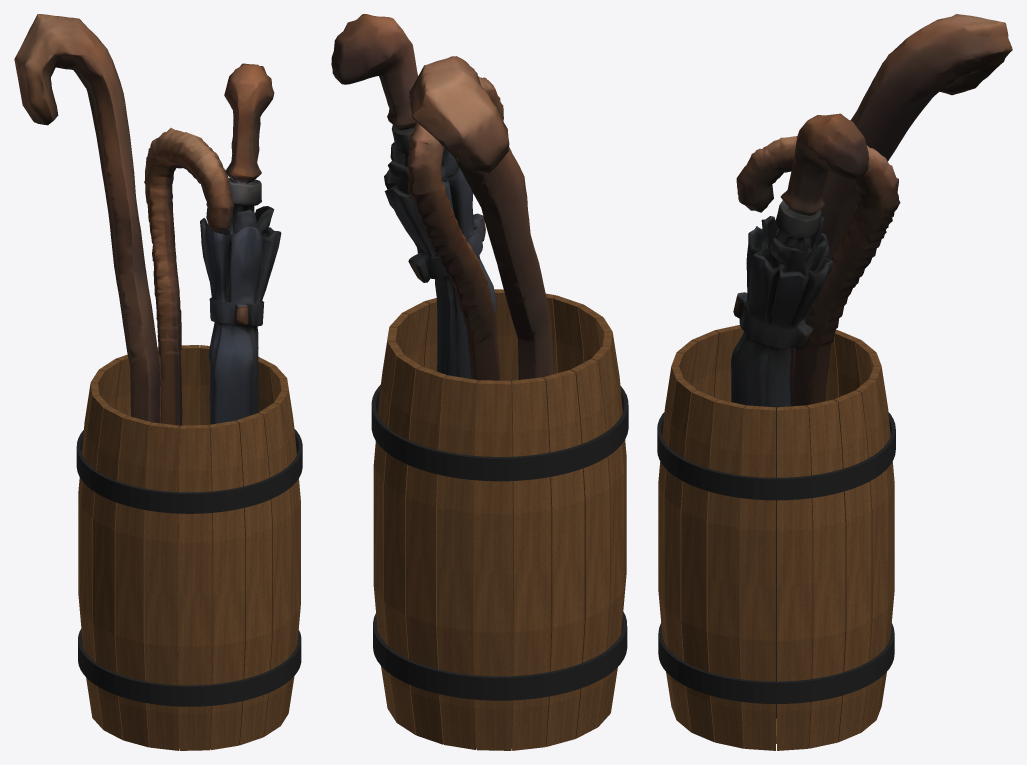
Rendered from vestibule-stick-stand.glb.
3 views of the same model, side by side, from view 1: azimuth 30°, elevation 25°; view 2: azimuth 150°, elevation 25°; view 3: azimuth 270°, elevation 25° (orthographic). The views are drawn at different scales.
Parts seen in each view (by area): view 1: Open oak umbrella holder, Tripo oak walking stick, Tripo folded umbrella, Tripo short walking stick; view 2: Open oak umbrella holder, Tripo oak walking stick, Tripo folded umbrella, Tripo short walking stick; view 3: Open oak umbrella holder, Tripo folded umbrella, Tripo oak walking stick, Tripo short walking stick.
Boxes of the visible parts, bbox=[...] form: Open oak umbrella holder: bbox=[76, 345, 302, 750]; Tripo oak walking stick: bbox=[14, 14, 160, 423]; Tripo folded umbrella: bbox=[200, 63, 281, 424]; Tripo short walking stick: bbox=[144, 128, 233, 656]; Open oak umbrella holder: bbox=[371, 289, 628, 750]; Tripo oak walking stick: bbox=[409, 56, 553, 379]; Tripo folded umbrella: bbox=[331, 14, 496, 378]; Tripo short walking stick: bbox=[407, 76, 503, 380]; Open oak umbrella holder: bbox=[657, 325, 895, 750]; Tripo folded umbrella: bbox=[731, 113, 868, 718]; Tripo oak walking stick: bbox=[790, 14, 1012, 406]; Tripo short walking stick: bbox=[736, 136, 900, 406].
Size of the model in its own units: 0.3613 by 1.05 by 0.5066.
9 materials, 8 textured.
